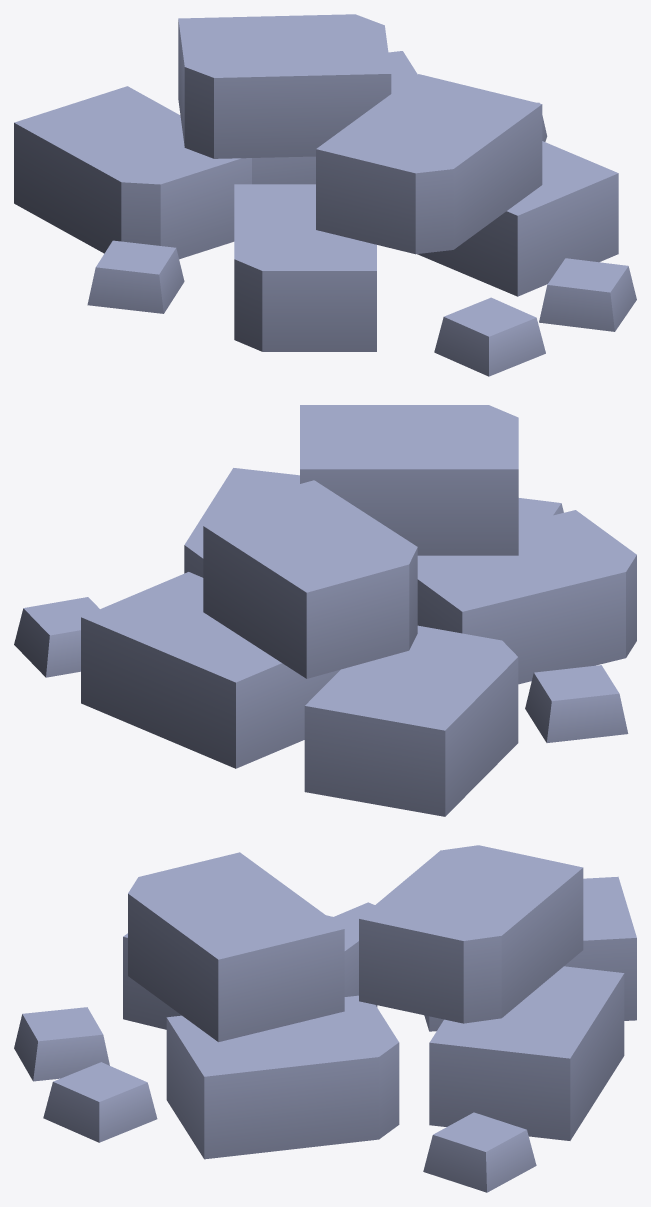
Rendered from debris_lev2.glb.
3 views of the same model, one above another, from view 1: azimuth 30°, elevation 25°; view 2: azimuth 150°, elevation 25°; view 3: azimuth 270°, elevation 25° (orthographic). The views are drawn at different scales.
Visible parts, largest first — view 1: debris_lev2; view 2: debris_lev2; view 3: debris_lev2.
Part boxes in pixels (x1=…): debris_lev2: x1=14, y1=14, x2=636, y2=376; debris_lev2: x1=14, y1=405, x2=636, y2=816; debris_lev2: x1=14, y1=845, x2=636, y2=1192.
Bounding box in the file's own units: 0.5362 × 0.16 × 0.5473.
Materials: 1 (1 with a texture image).
